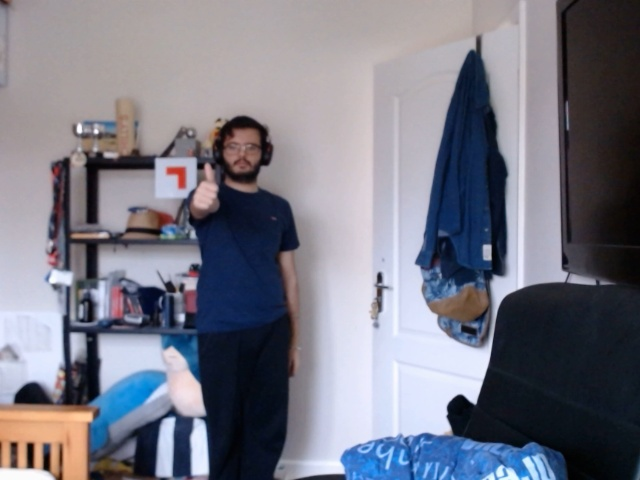Thumbs up: (185, 161, 227, 214)
